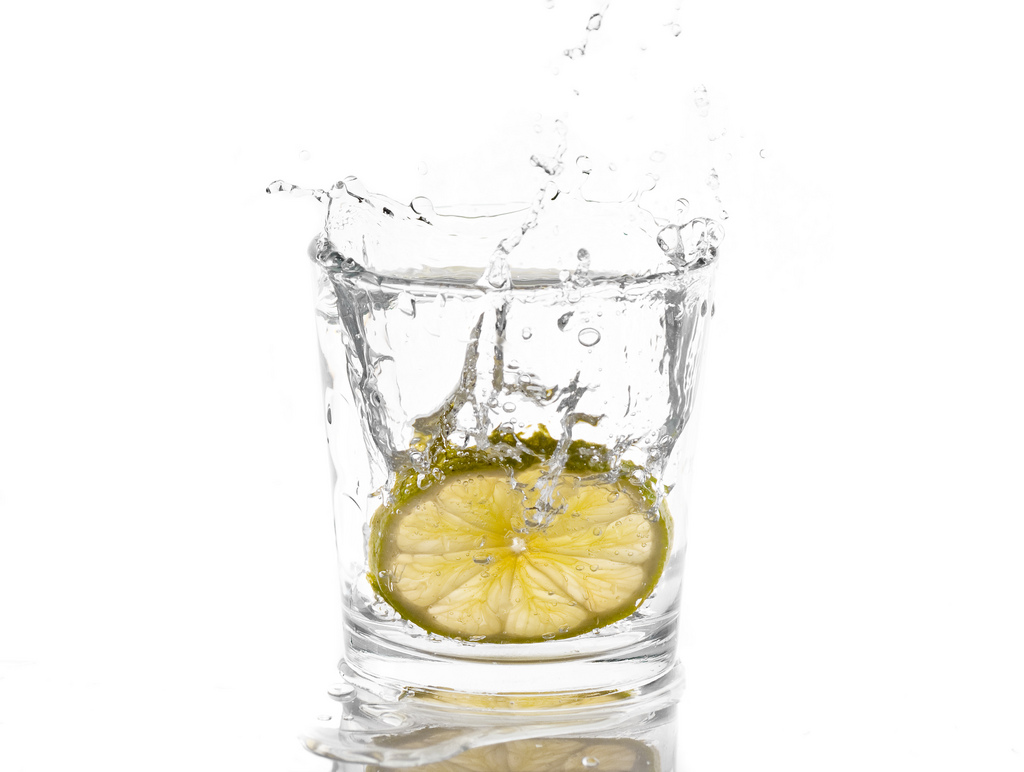glass of water: (273, 103, 733, 737)
